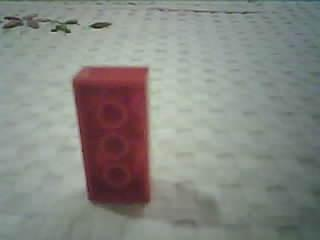lego: (70, 64, 151, 205)
